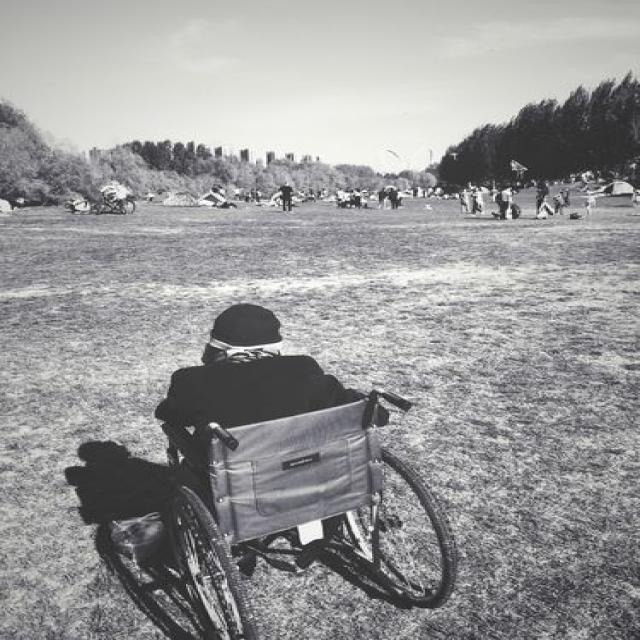wheelchairs: (113, 385, 470, 634)
